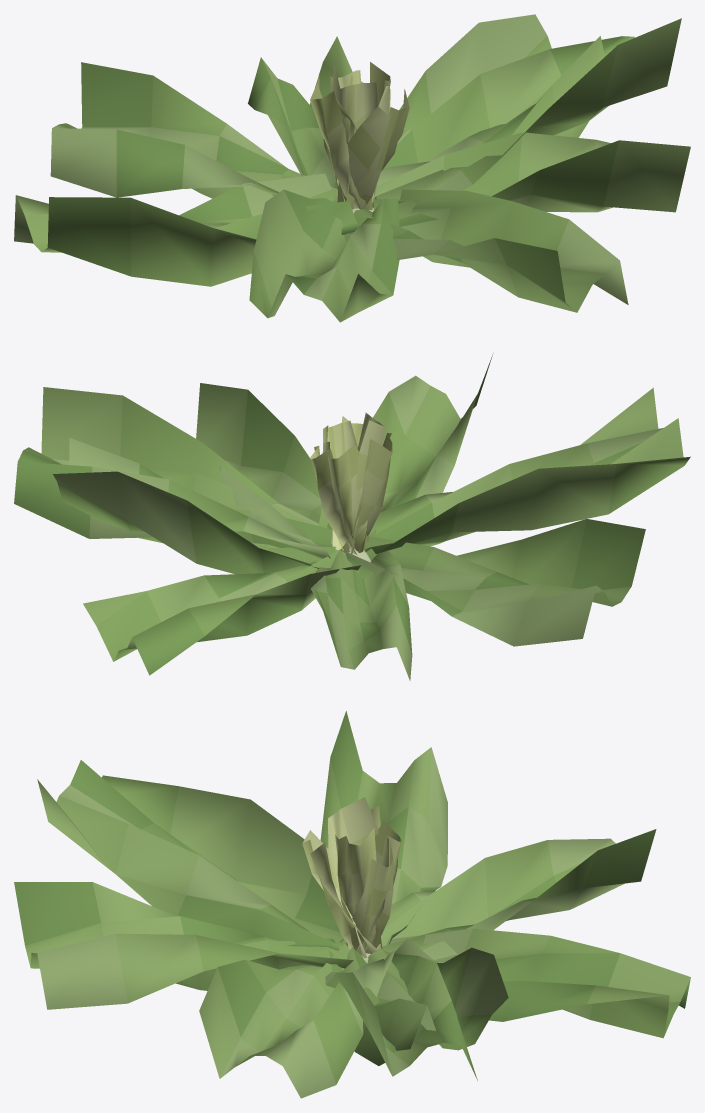
File: salade_frisee_jeune.glb
The picture shows the model from 3 angles, top to bottom: view 1: azimuth 30°, elevation 25°; view 2: azimuth 150°, elevation 25°; view 3: azimuth 270°, elevation 25°; orthographic projection. The views are drawn at different scales.
Visible parts, largest first — view 1: Salade_Feuilles_ext, Salade_Feuilles_int; view 2: Salade_Feuilles_ext, Salade_Feuilles_int; view 3: Salade_Feuilles_ext, Salade_Feuilles_int.
Part boxes in pixels (x1,y1,x2,y2): Salade_Feuilles_ext: (14, 14, 690, 322); Salade_Feuilles_int: (310, 62, 409, 210); Salade_Feuilles_ext: (14, 353, 690, 680); Salade_Feuilles_int: (310, 412, 392, 554); Salade_Feuilles_ext: (14, 711, 690, 1098); Salade_Feuilles_int: (302, 797, 401, 958).
Size of the model in its own units: 0.3608 by 0.1017 by 0.3352.
